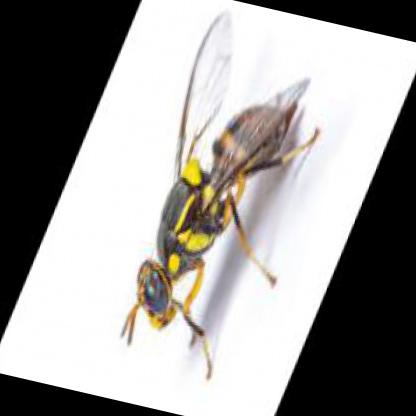fruit fly: (123, 14, 316, 381)
